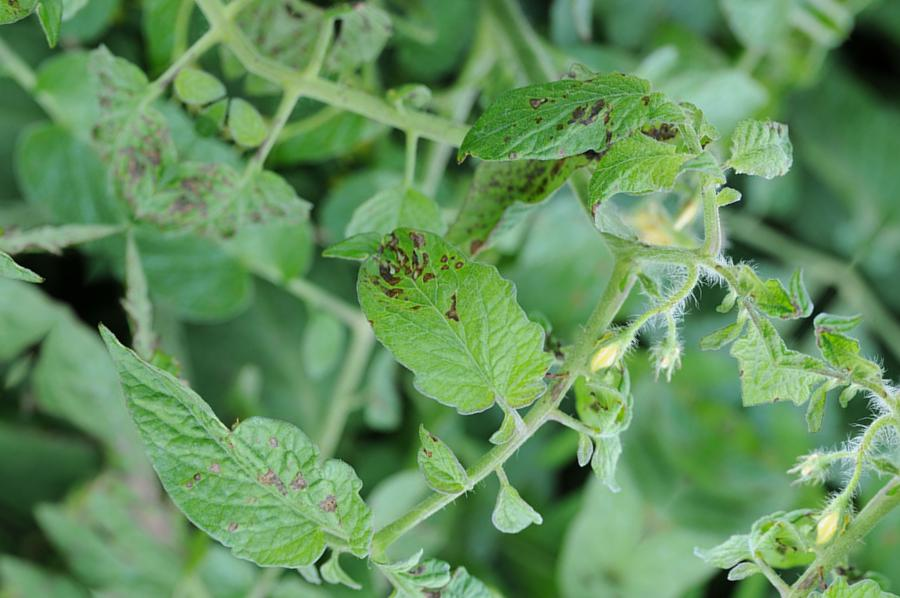Tomato leaf bacterial spot: (20, 276, 396, 598), (288, 185, 579, 454), (450, 0, 710, 237)
